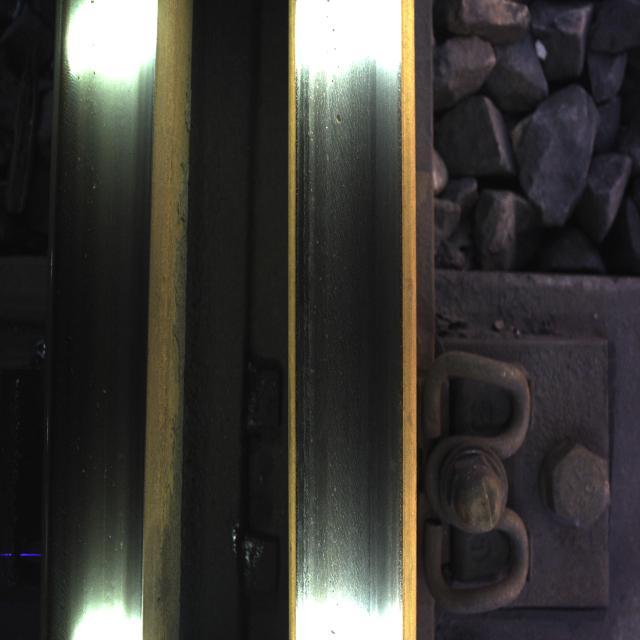break: (60, 59, 134, 525)
normal: (303, 48, 392, 576)
